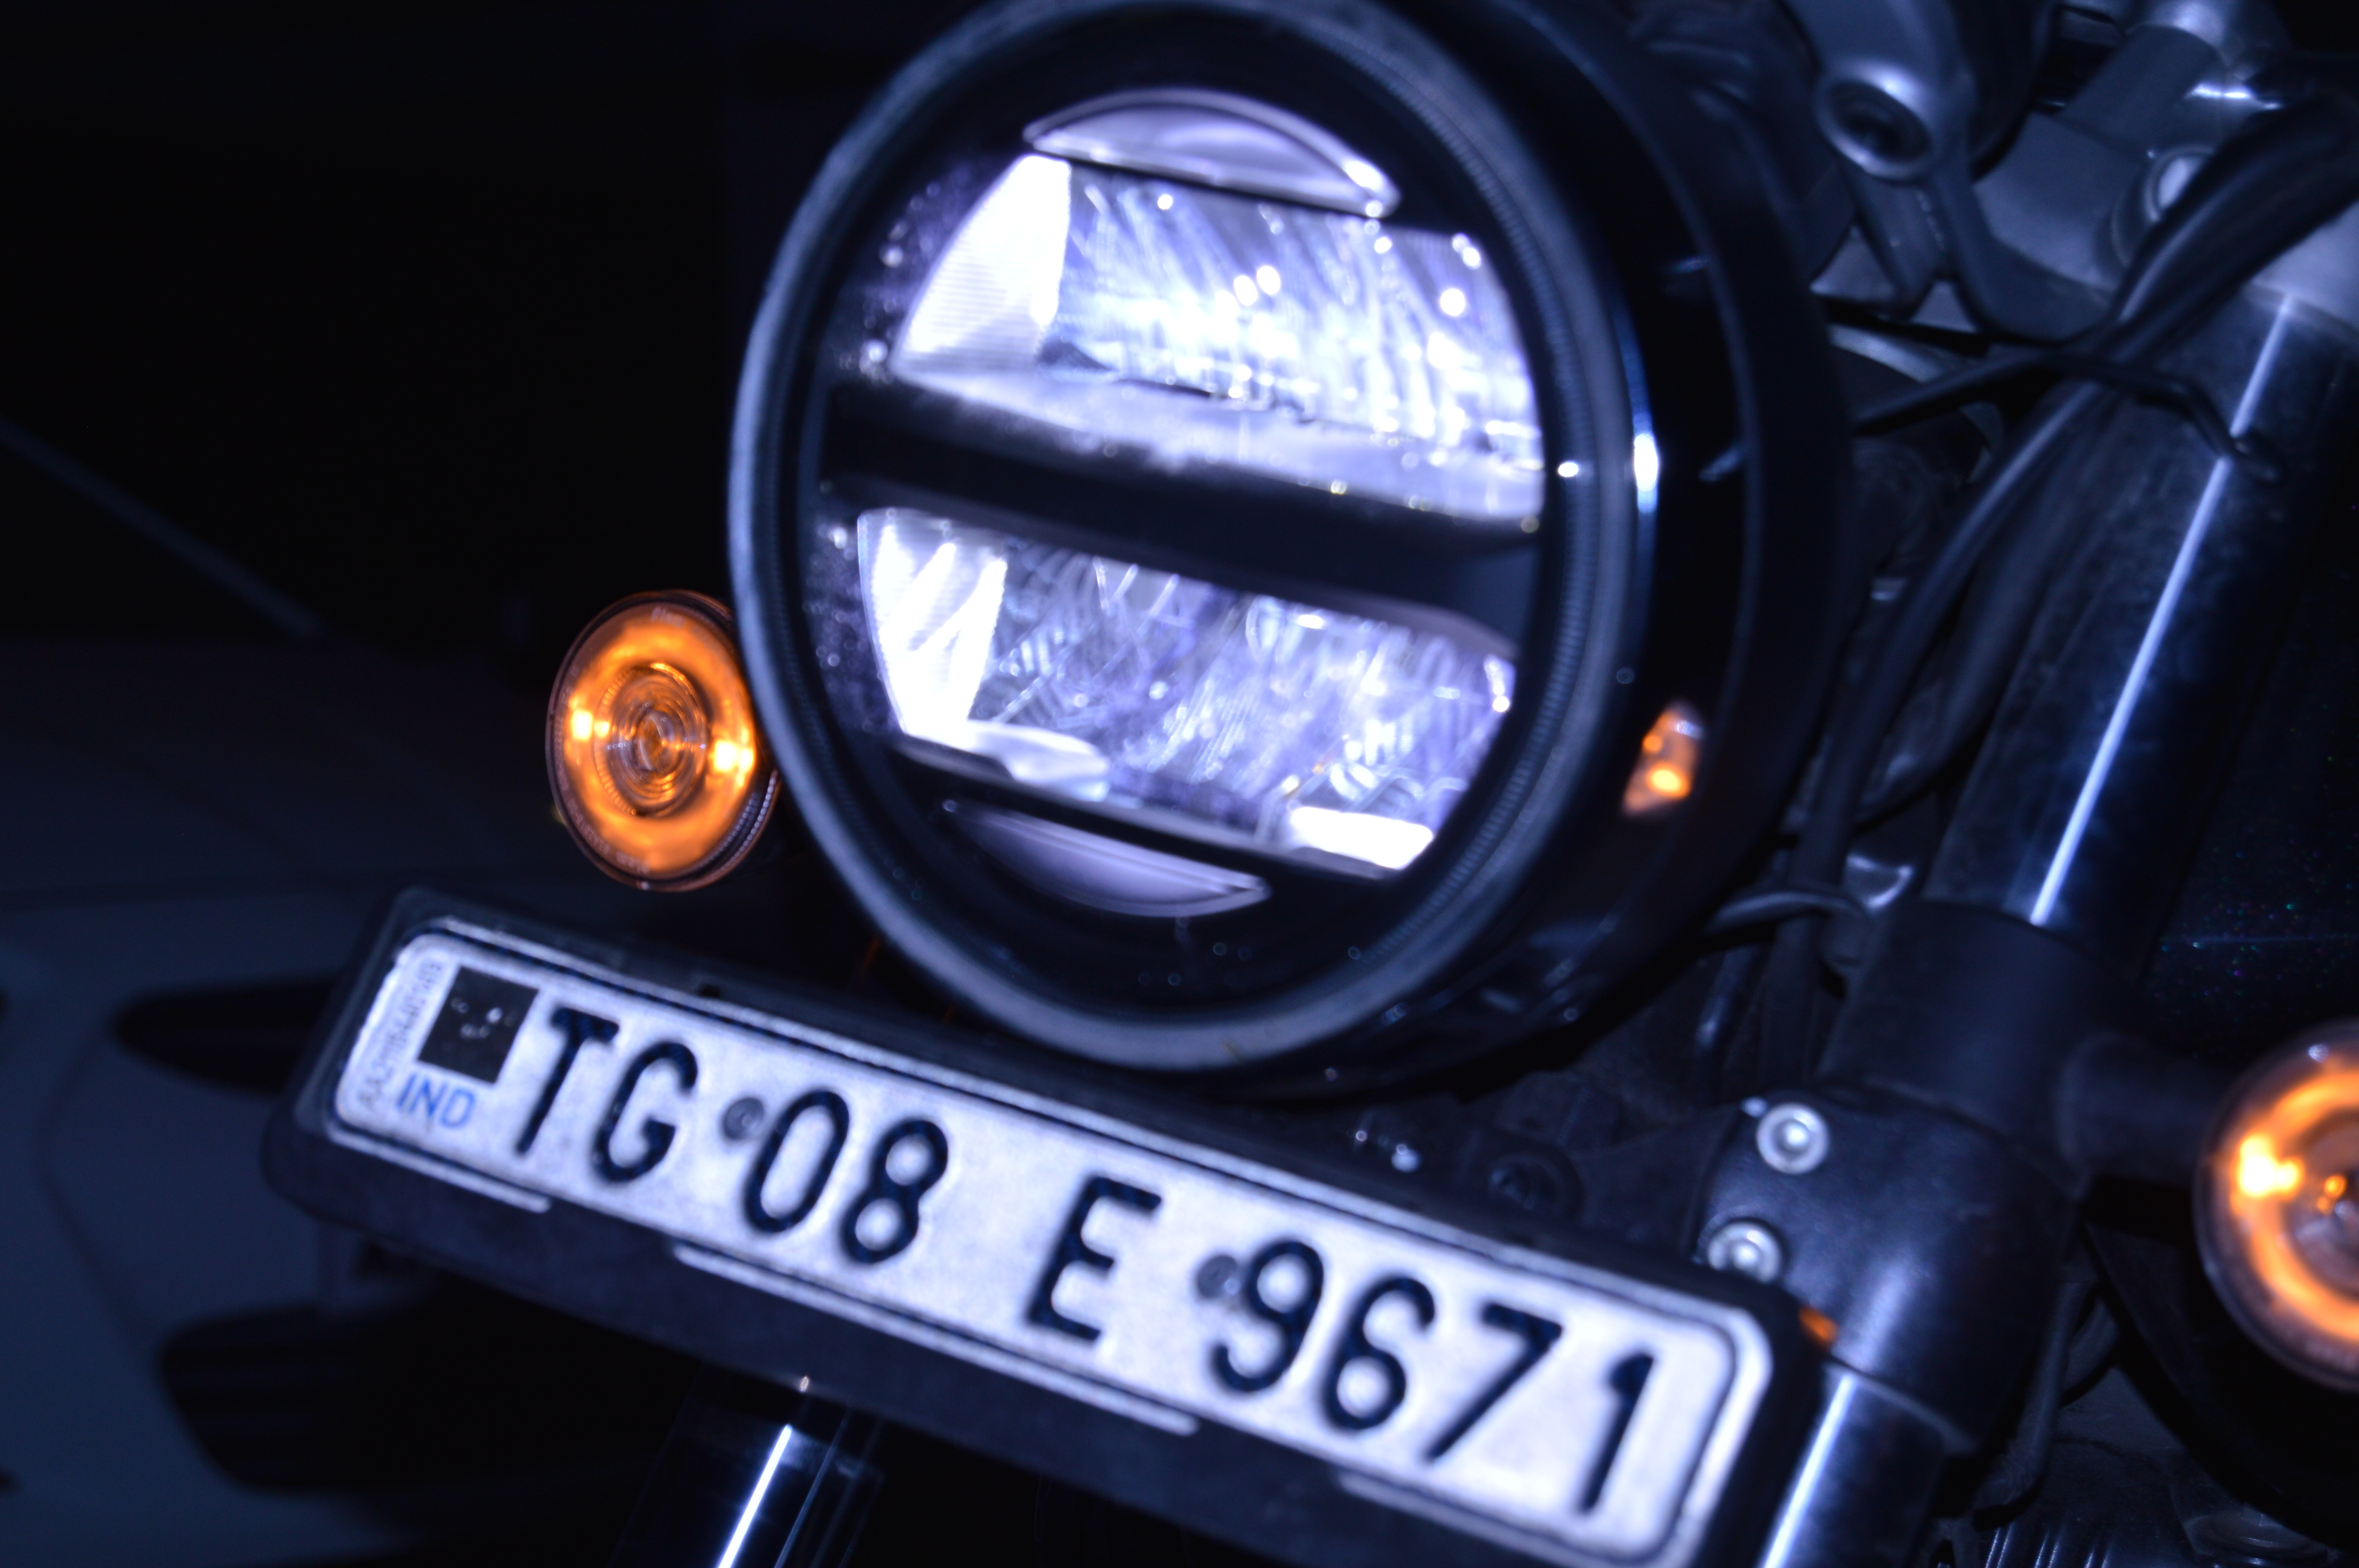Glare: (866, 122, 1599, 527), (835, 485, 1540, 903), (2231, 1137, 2313, 1209), (705, 731, 758, 791), (555, 705, 600, 747)
